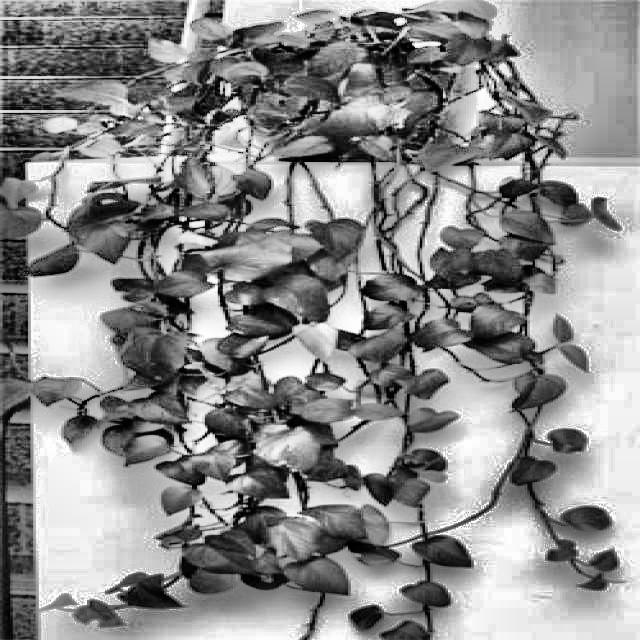plants: (21, 6, 637, 615)
